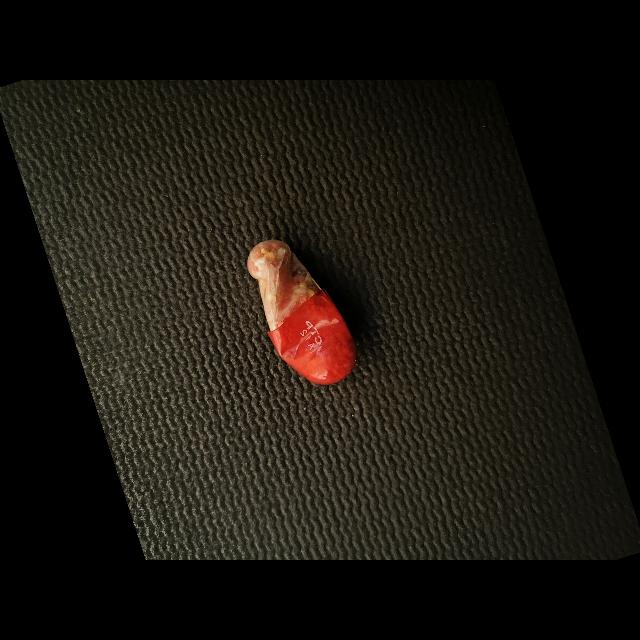Defective Capsule: (247, 240, 357, 385)
